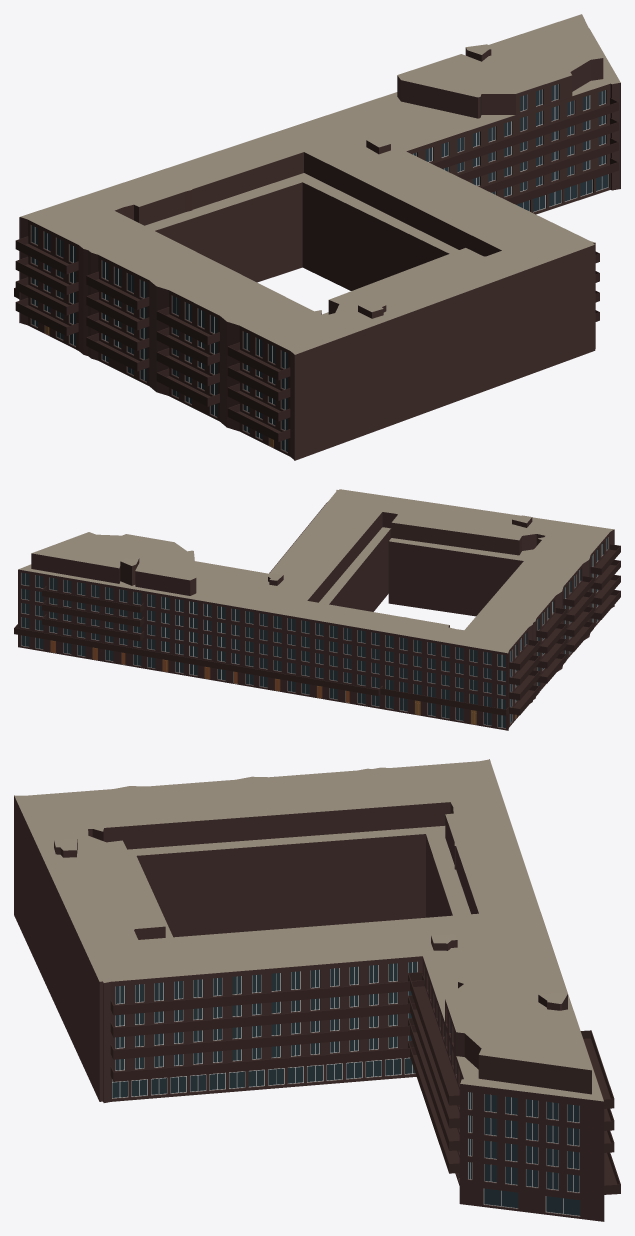
Rendered from recipe-large-van-kinsbergenstraat-54-156-239704.glb.
The picture shows the model from 3 angles, top to bottom: view 1: azimuth 30°, elevation 25°; view 2: azimuth 150°, elevation 25°; view 3: azimuth 270°, elevation 25°; orthographic projection. The views are drawn at different scales.
Visible parts, largest first — view 1: van-kinsbergenstraat-54-156-239704; view 2: van-kinsbergenstraat-54-156-239704; view 3: van-kinsbergenstraat-54-156-239704.
Boxes of the visible parts, box(x1,y1,x2,y2) form: van-kinsbergenstraat-54-156-239704: box(14, 14, 620, 460); van-kinsbergenstraat-54-156-239704: box(14, 489, 620, 730); van-kinsbergenstraat-54-156-239704: box(14, 759, 620, 1221).
Size of the model in its own units: 99.68 by 20.28 by 73.45.
